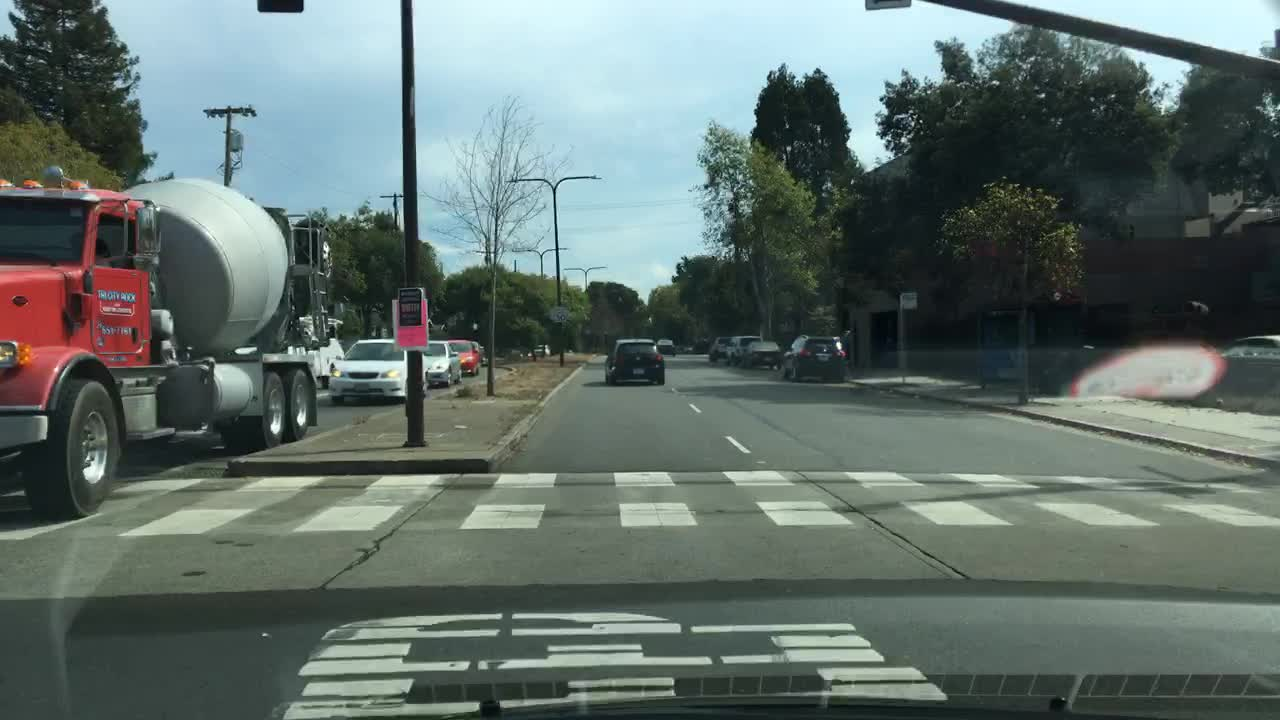car: (0, 163, 337, 521), (325, 336, 427, 402), (1207, 333, 1279, 391), (601, 335, 666, 385), (781, 332, 846, 382), (422, 337, 464, 388), (311, 335, 343, 389), (444, 337, 480, 379), (740, 335, 782, 369), (725, 334, 764, 365), (680, 334, 714, 353), (708, 335, 731, 362), (656, 337, 677, 355), (478, 344, 490, 367), (532, 344, 552, 357), (518, 346, 532, 357)
traffic sign: (897, 291, 918, 309), (550, 305, 569, 321)
